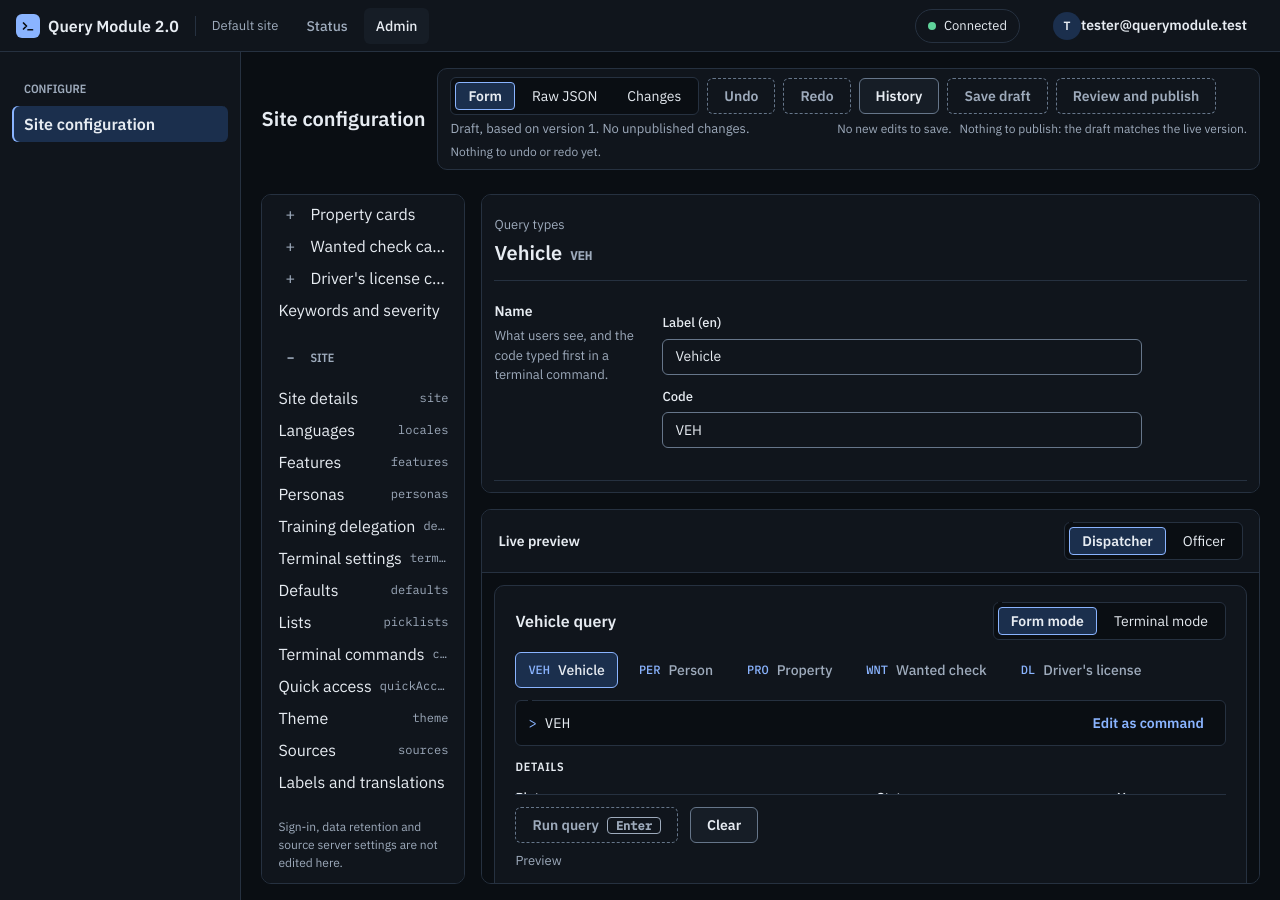
Scenario: dirty-draft guard (B1) › Sign out in the dialog signs out
(page scrolled)
Expected: the tab "Form" is shown, [456,82,515,110]
Click the list item "Terminal settings terminal": (363, 558) [270,542,456,574]
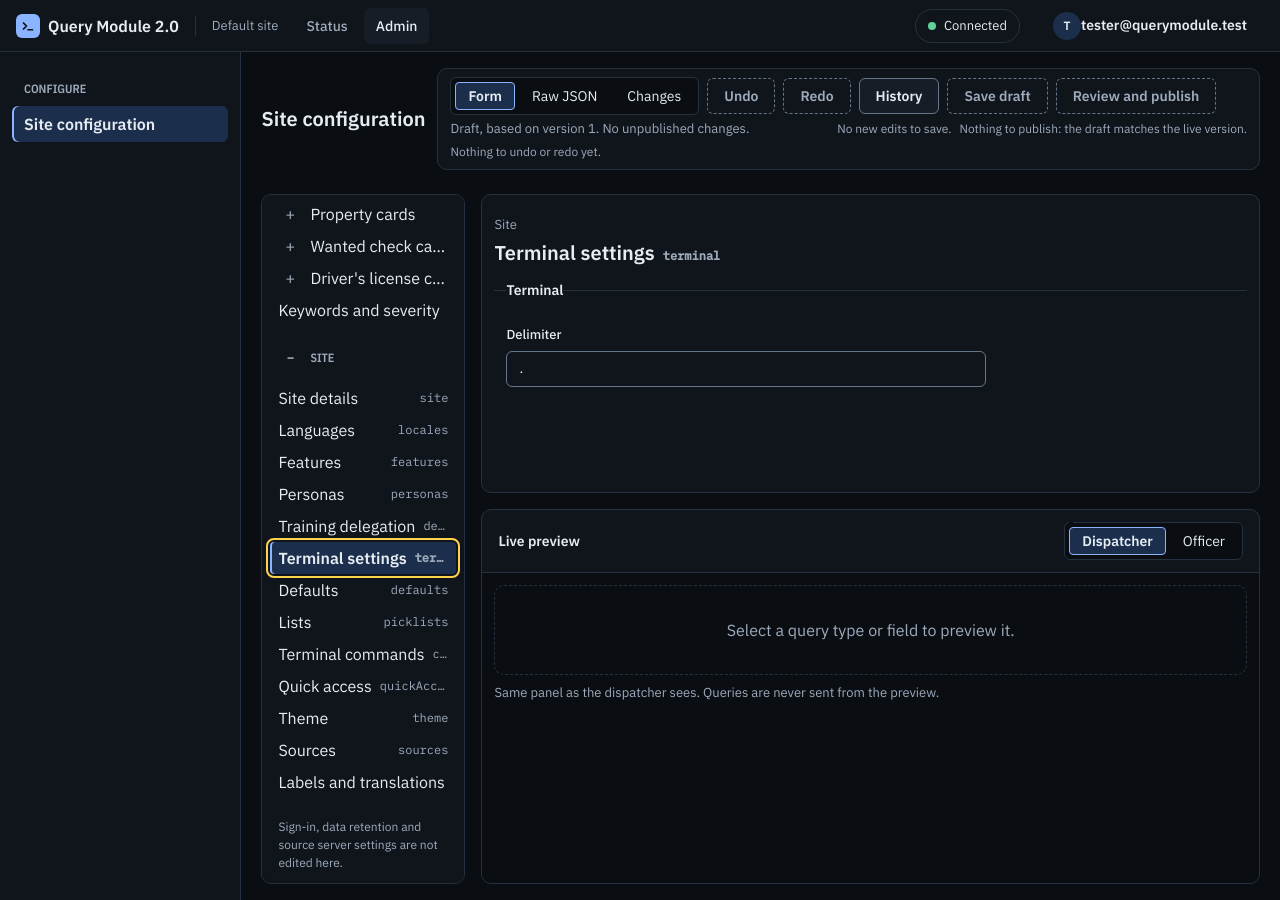
Clear the field labelled "Delimiter": (746, 368) [506,350,986,386]
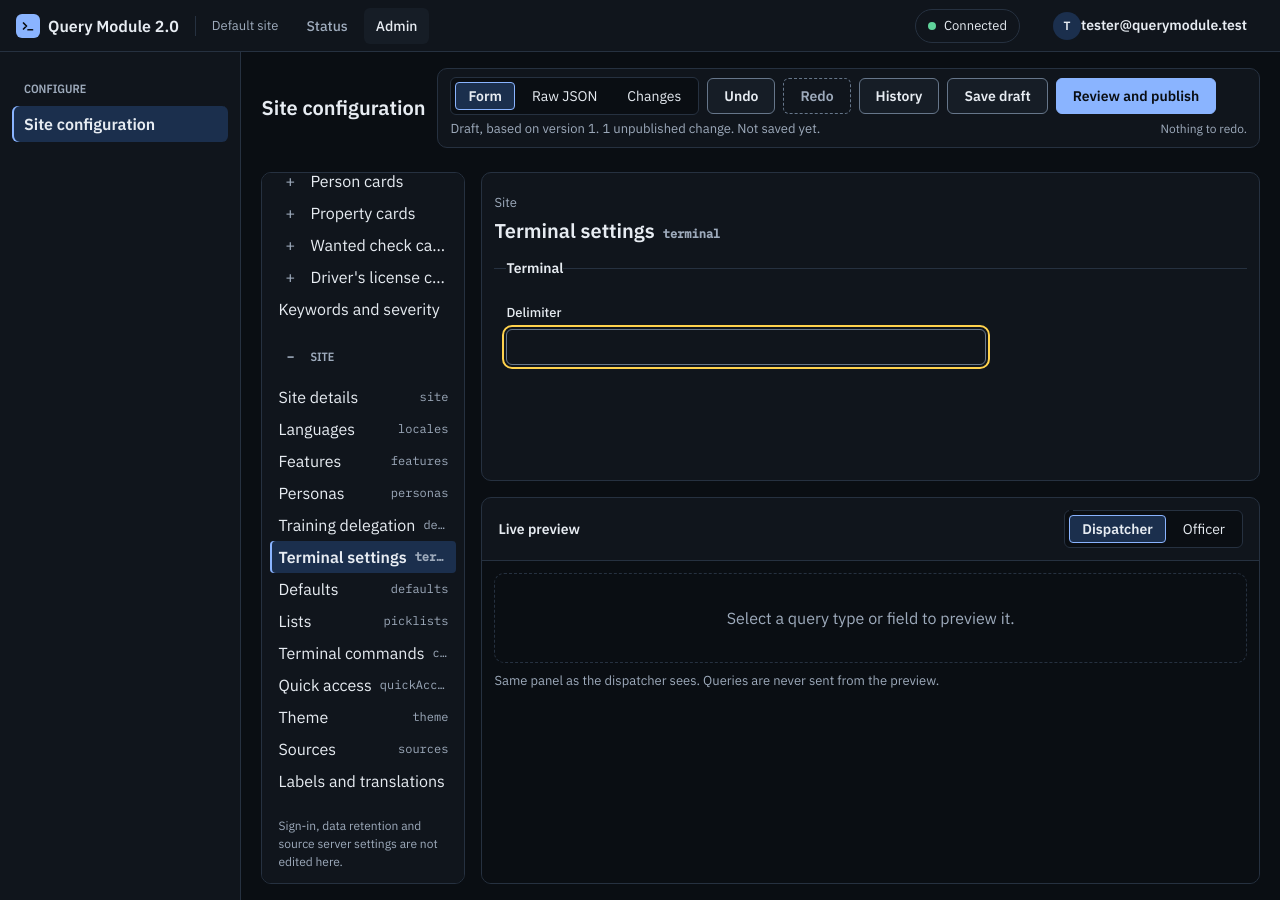
In the field labelled "Delimiter": (746, 346) [506,328,986,364], type "~"
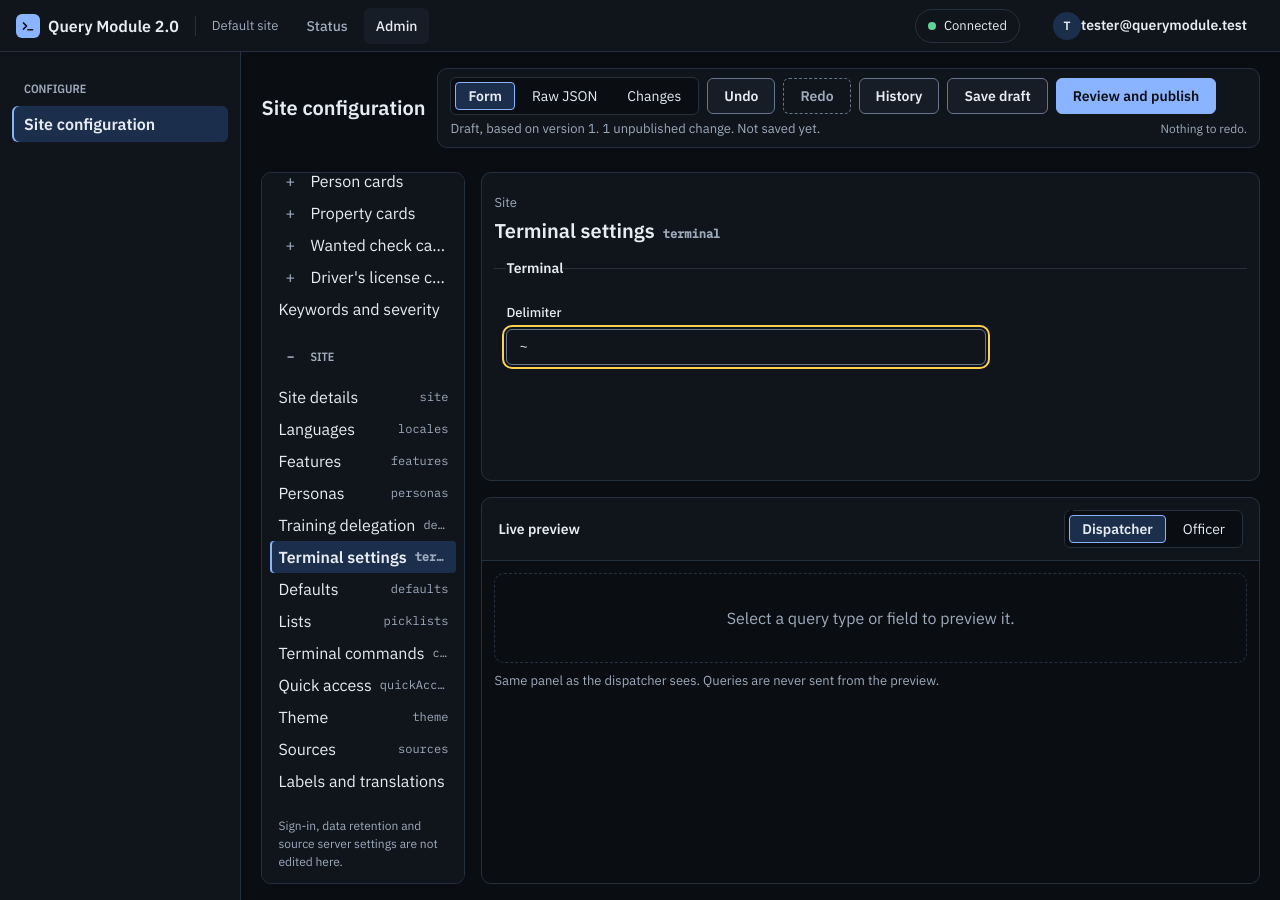
Click the button "T tester@querymodule.test": (1150, 26) [1036,8,1264,44]
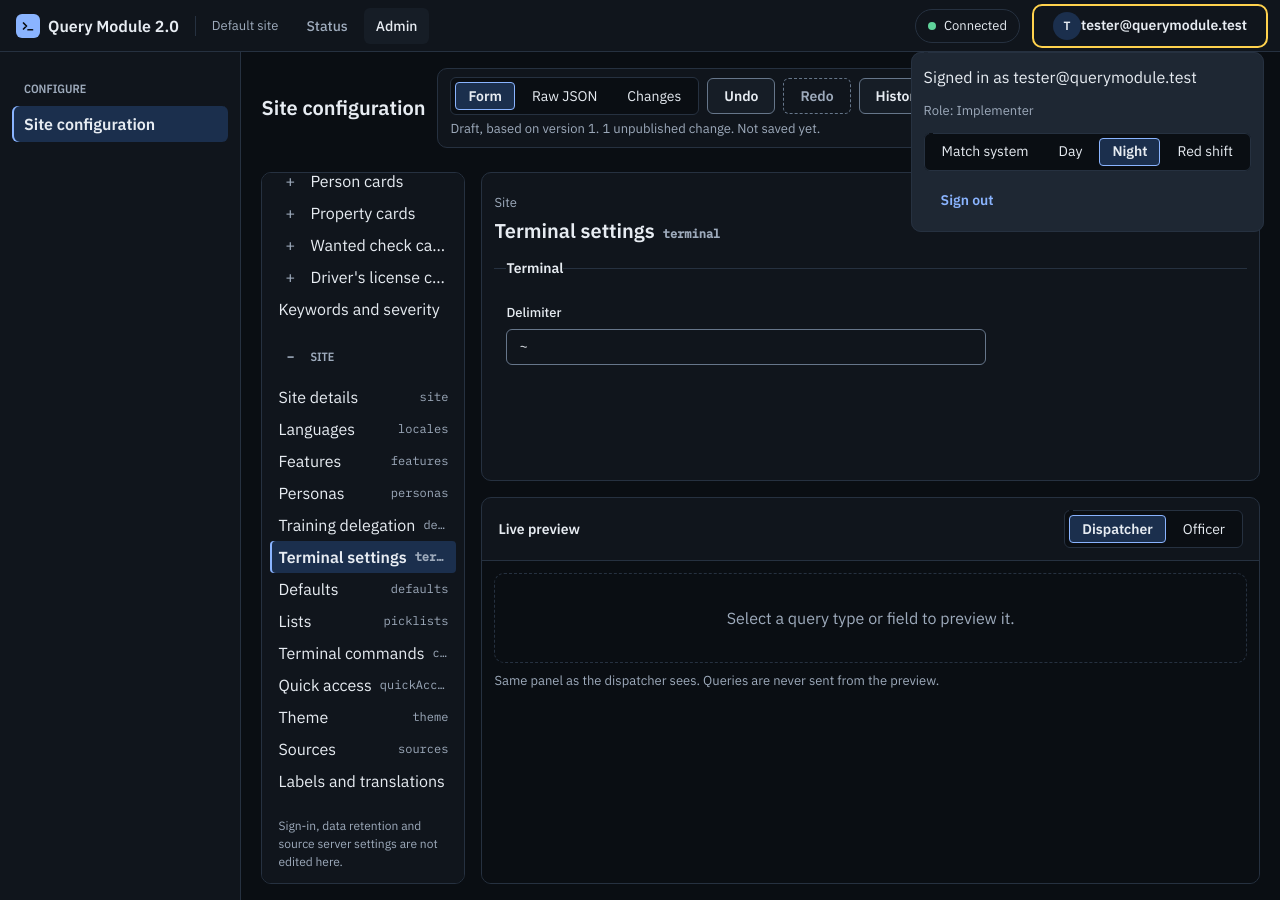
Click the button "Sign out": (967, 200) [924,182,1010,218]
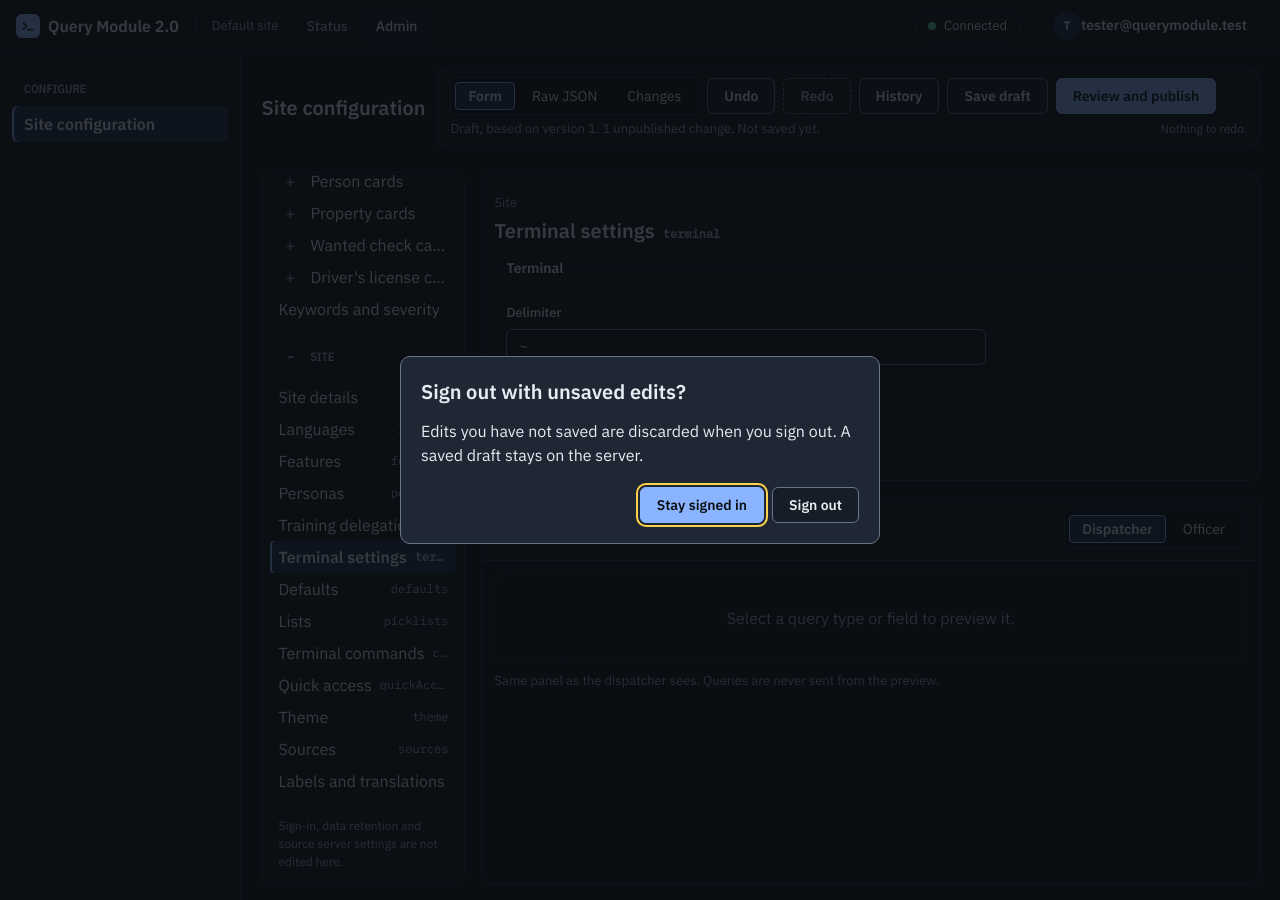
Click the button "Sign out": (816, 505) [772,487,859,523]
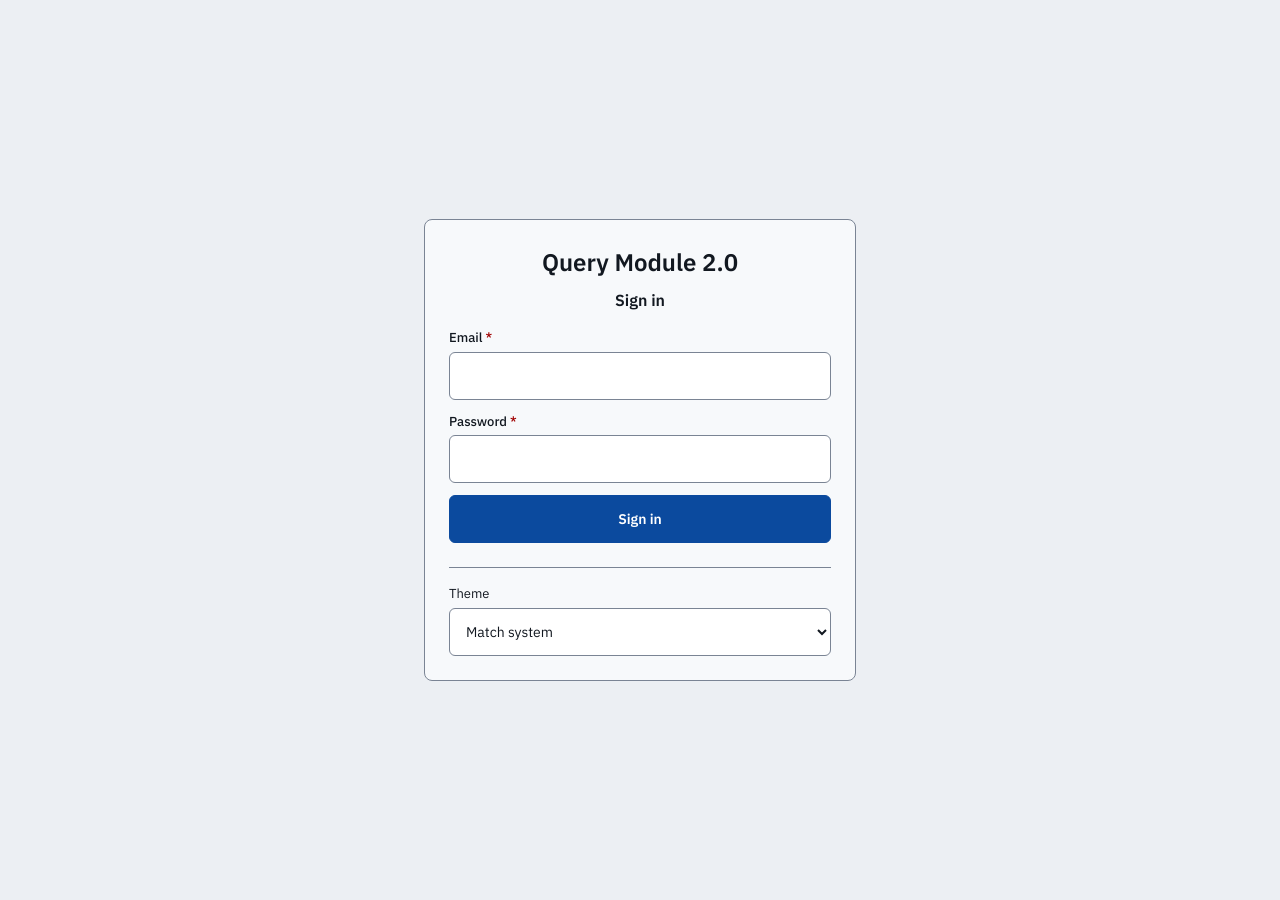
Expected: the dialog is gone
